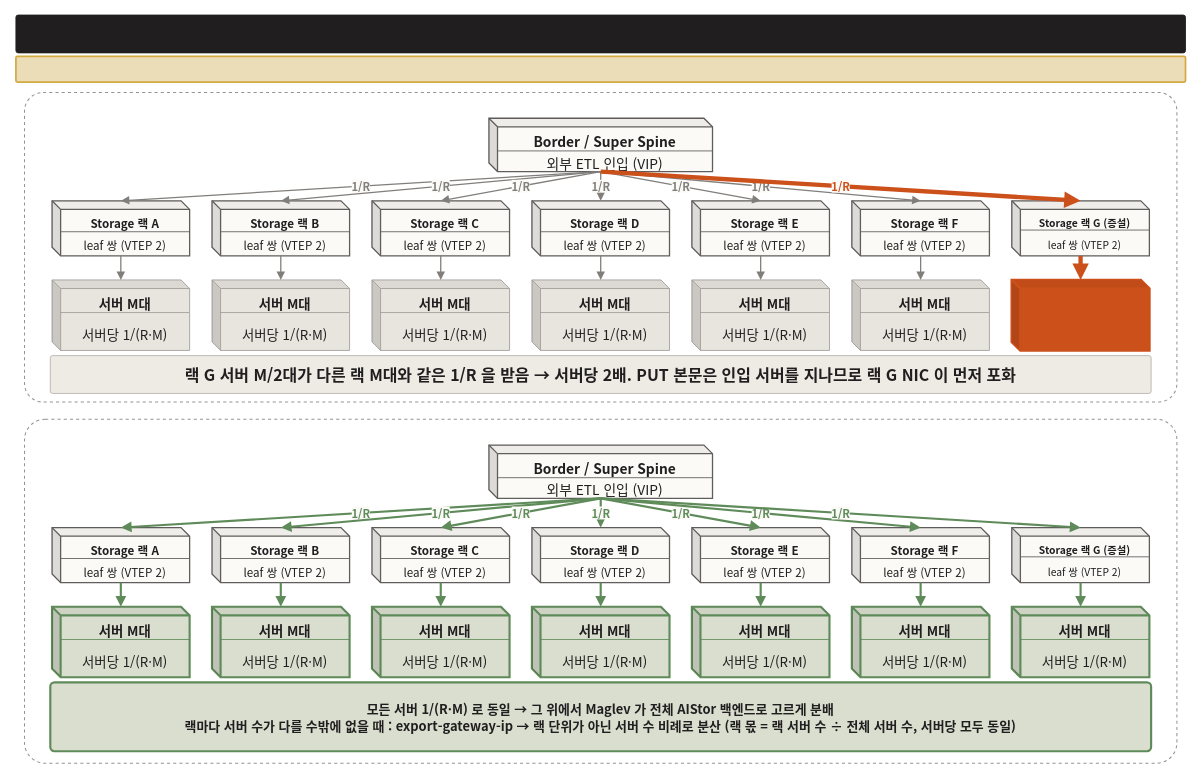
Some shapes in this 1201 by 779 pixel diagram are drawn without their labels. Here are the shapes that lost their labels. From the top down, the box of each, then its label:
(15, 14, 1186, 53): 그림 1-1. 랙 서버 균등 분배 : 인입 분산
(15, 55, 1186, 83): 패브릭은 랙(VTEP) 단위로 똑같이 나눔 → 랙당 서버 수가 다르면 서버당 부하가 달라짐. 랙당 서버 수 = 분산의 전제
(24, 92, 1177, 402): I Lake : 배치 정책 없음 (DCNY03 Storage 랙 M대 + 증설 랙 G 만 M/2대)
(1010, 278, 1150, 351): 서버 M/2대 서버당 2/(R·M) (다른 랙의 2배)
(24, 418, 1177, 763): Y1 : 원칙 = 역할별로 랙당 서버 수 균일 (DCNY03 Storage M대 · DCNY01 Compute N대), 증설은 랙 단위
